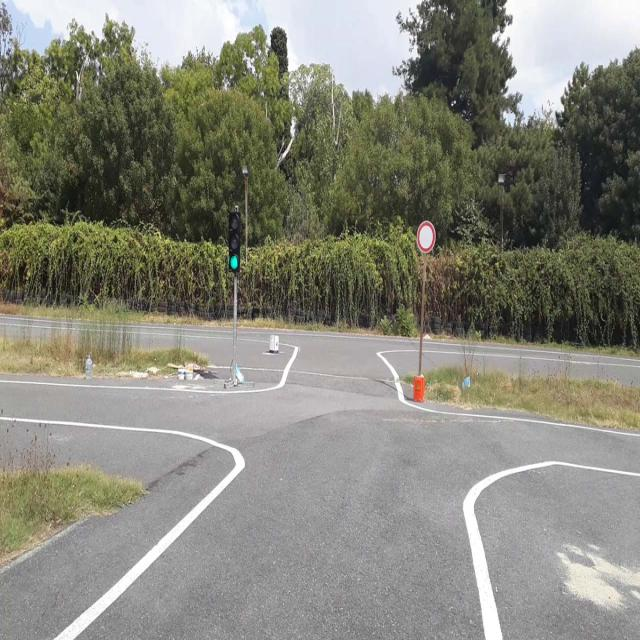yesil: (230, 212, 238, 272)
